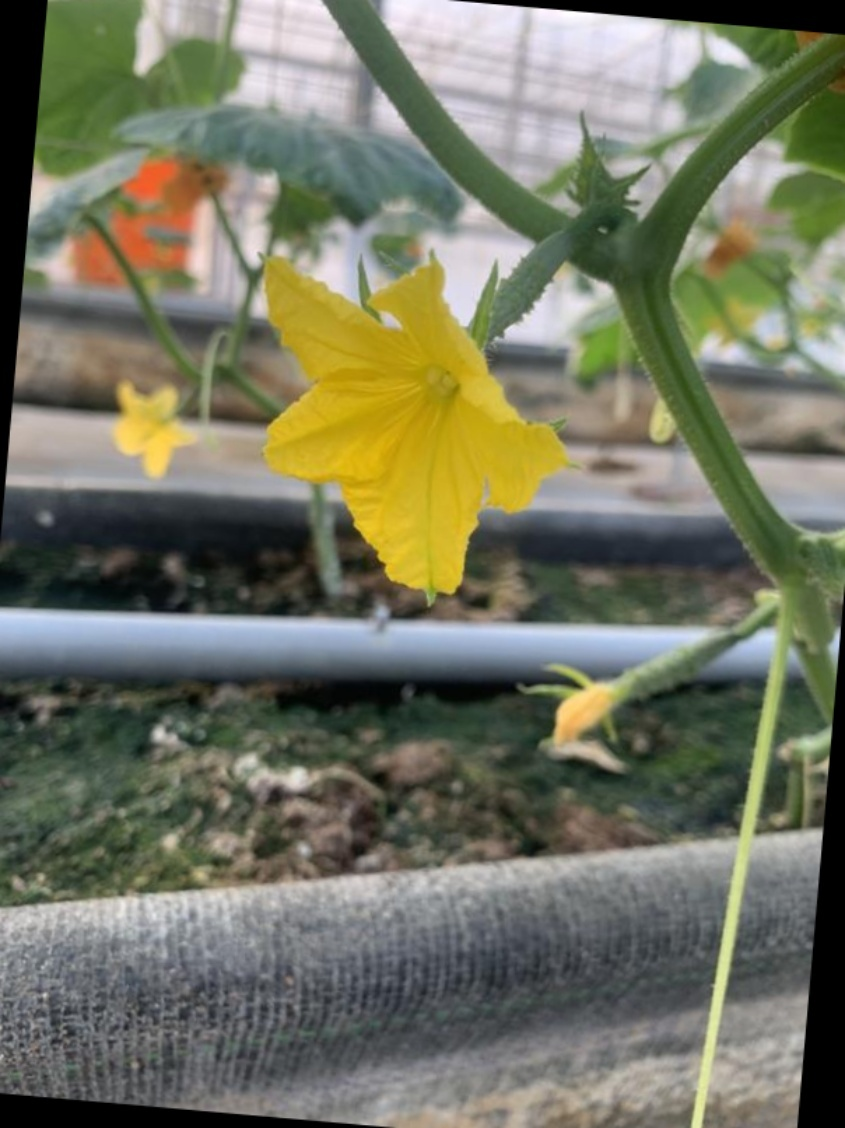mature: (247, 183, 620, 607)
